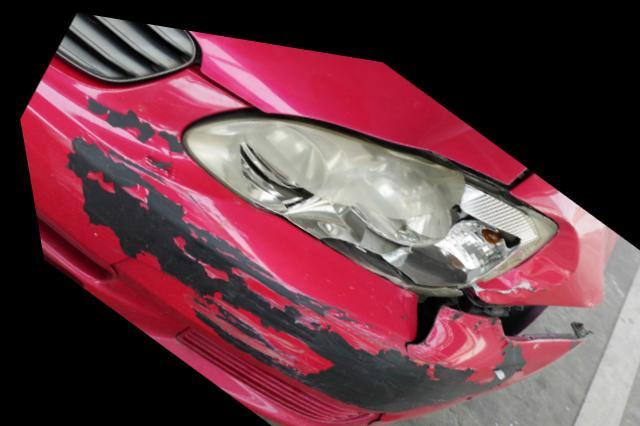crack: (393, 282, 436, 345), (93, 253, 122, 278), (348, 402, 373, 419)
dent: (504, 194, 574, 273)
dislocated part: (57, 94, 588, 426)
lamp broken: (177, 105, 553, 285)
scratch: (53, 92, 512, 405)
